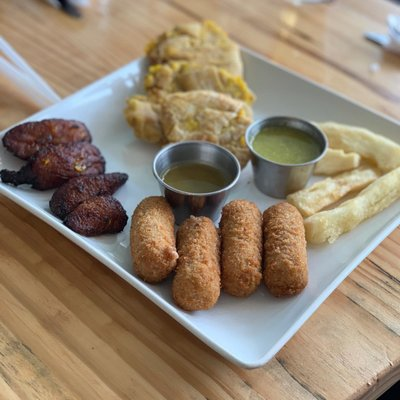pizza: (245, 115, 328, 199)
sushi: (151, 141, 241, 211)
